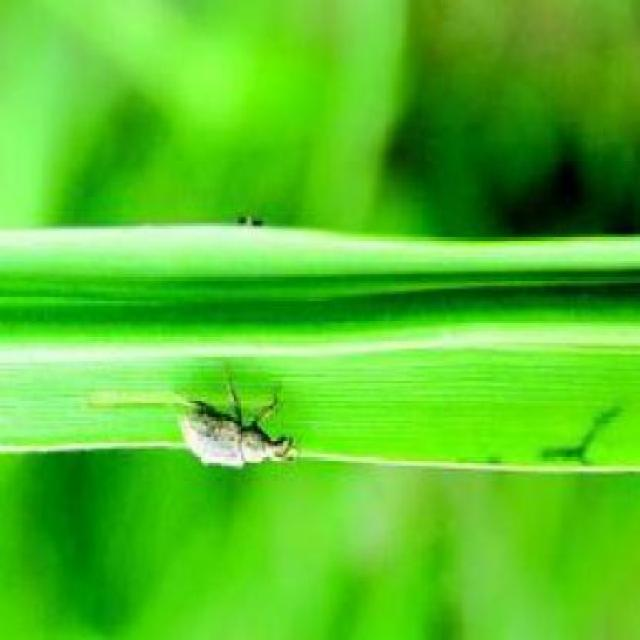rice-bug: (177, 378, 297, 472)
